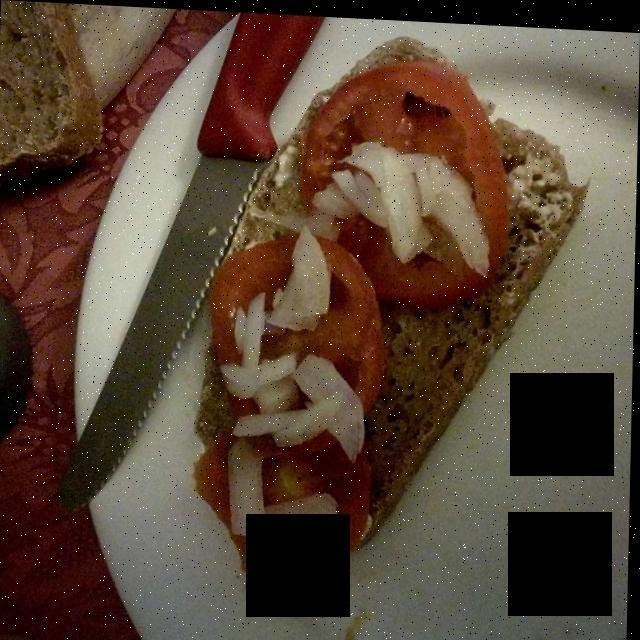bread: (207, 55, 560, 573)
margarine: (509, 152, 576, 243)
onion: (224, 142, 497, 540)
tomato: (192, 58, 501, 578)
